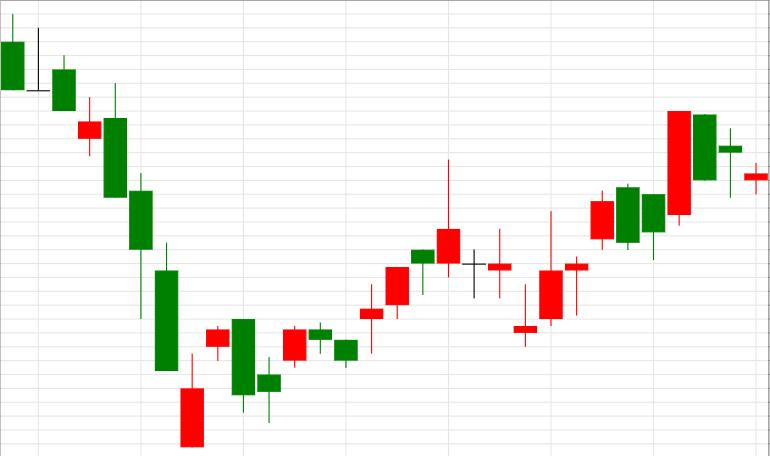shooting_star_fall: (334, 159, 460, 369)
